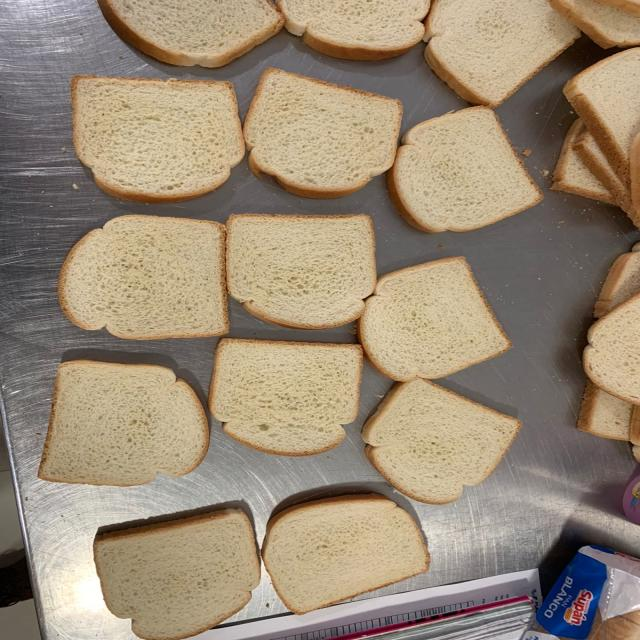pan: (92, 508, 262, 640), (73, 77, 245, 205), (37, 360, 210, 487), (243, 68, 402, 199), (363, 376, 523, 506), (61, 216, 230, 339), (262, 494, 431, 616), (357, 255, 513, 383), (387, 106, 544, 233), (208, 339, 363, 456), (227, 215, 376, 329)
